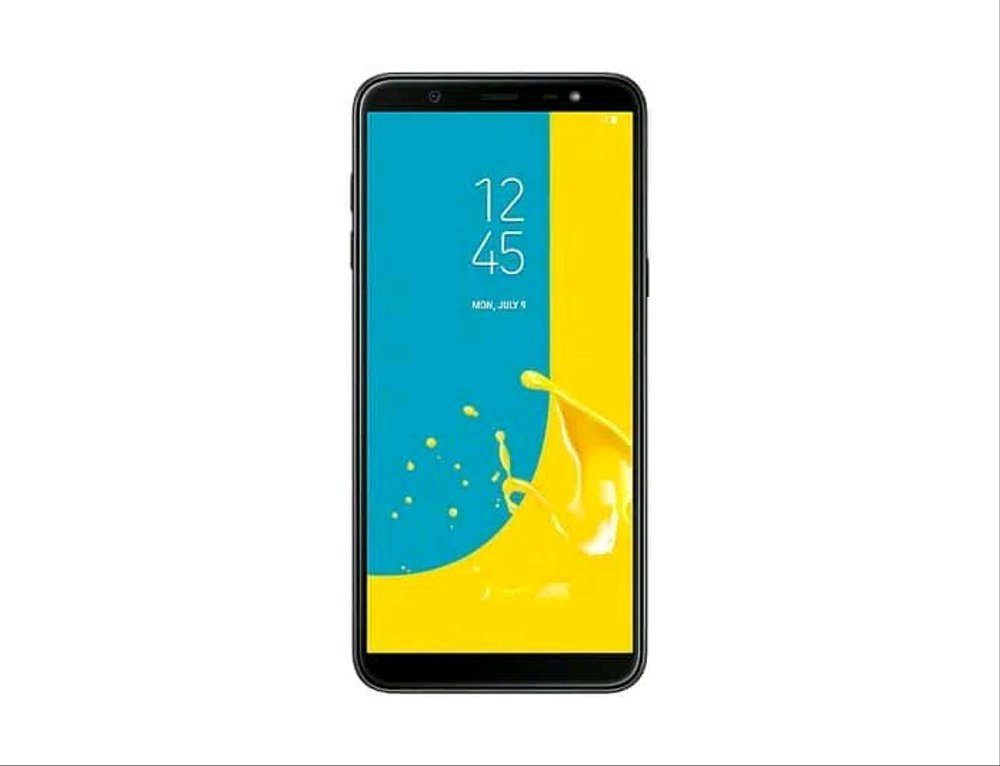Handphone: (339, 66, 658, 699)
